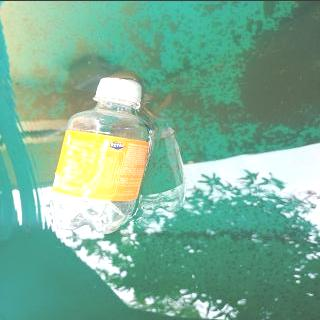bottle: (50, 75, 156, 234)
